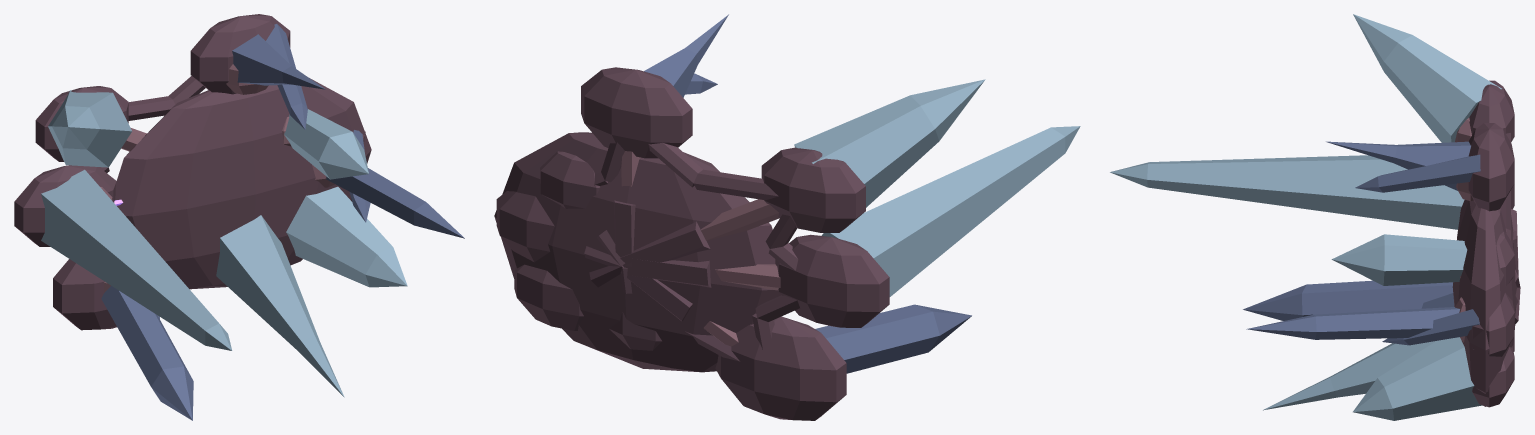
Rendered from colony_wall.glb.
3 renders of one model, left to right at view 1: azimuth 30°, elevation 25°; view 2: azimuth 150°, elevation 25°; view 3: azimuth 270°, elevation 25°, orthographic. The views are drawn at different scales.
Visible parts, largest first — view 1: colony_wall; view 2: colony_wall; view 3: colony_wall.
Part boxes in pixels (x1,y1,x2,y2): colony_wall: [14, 14, 464, 420]; colony_wall: [494, 14, 1080, 420]; colony_wall: [1110, 14, 1520, 420].
Bounding box in the file's own units: 1.01 × 0.7615 × 0.9878.
